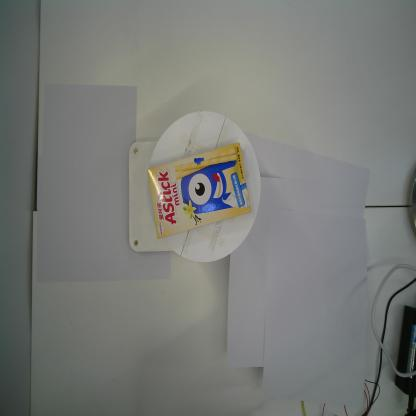Dessert: (145, 139, 253, 240)
